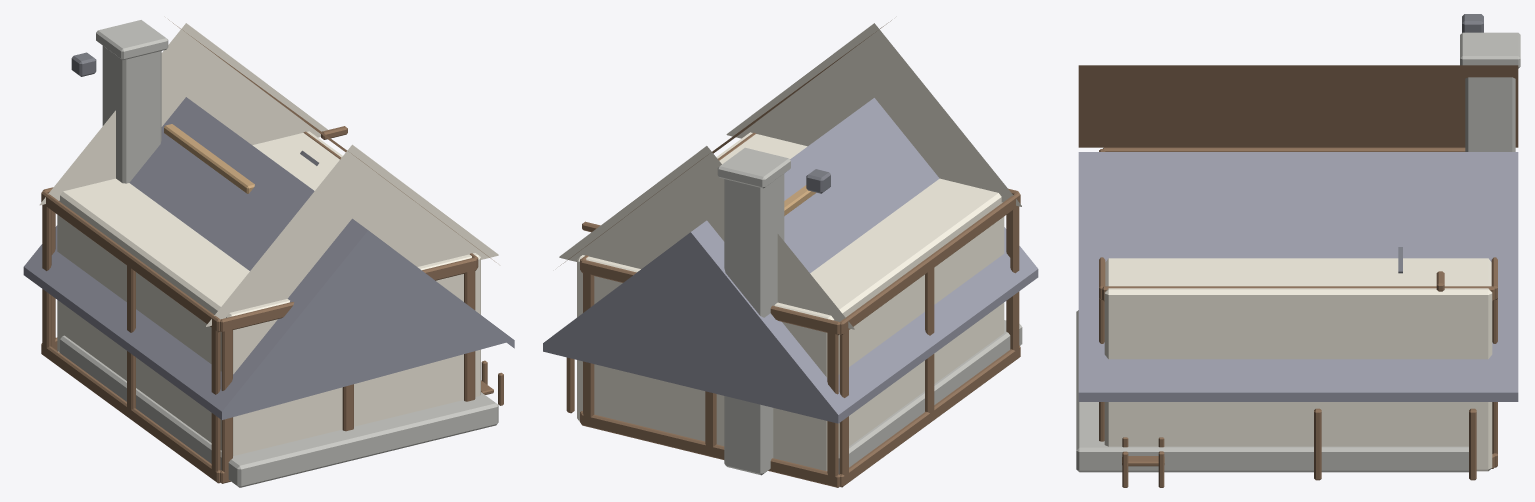
The model's file is town_general_store.glb.
3 views of the same model, side by side, from view 1: azimuth 30°, elevation 25°; view 2: azimuth 150°, elevation 25°; view 3: azimuth 270°, elevation 25° (orthographic). The views are drawn at different scales.
Visible parts, largest first — view 1: world; view 2: world; view 3: world.
Part boxes in pixels (left/top/right/bottom): world: left=23, top=19, right=514, bottom=487; world: left=543, top=20, right=1038, bottom=487; world: left=1076, top=14, right=1520, bottom=487.
Bounding box in the file's own units: 1.8 × 1.66 × 2.
